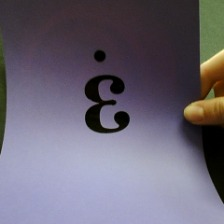violet3: (77, 47, 136, 135)
